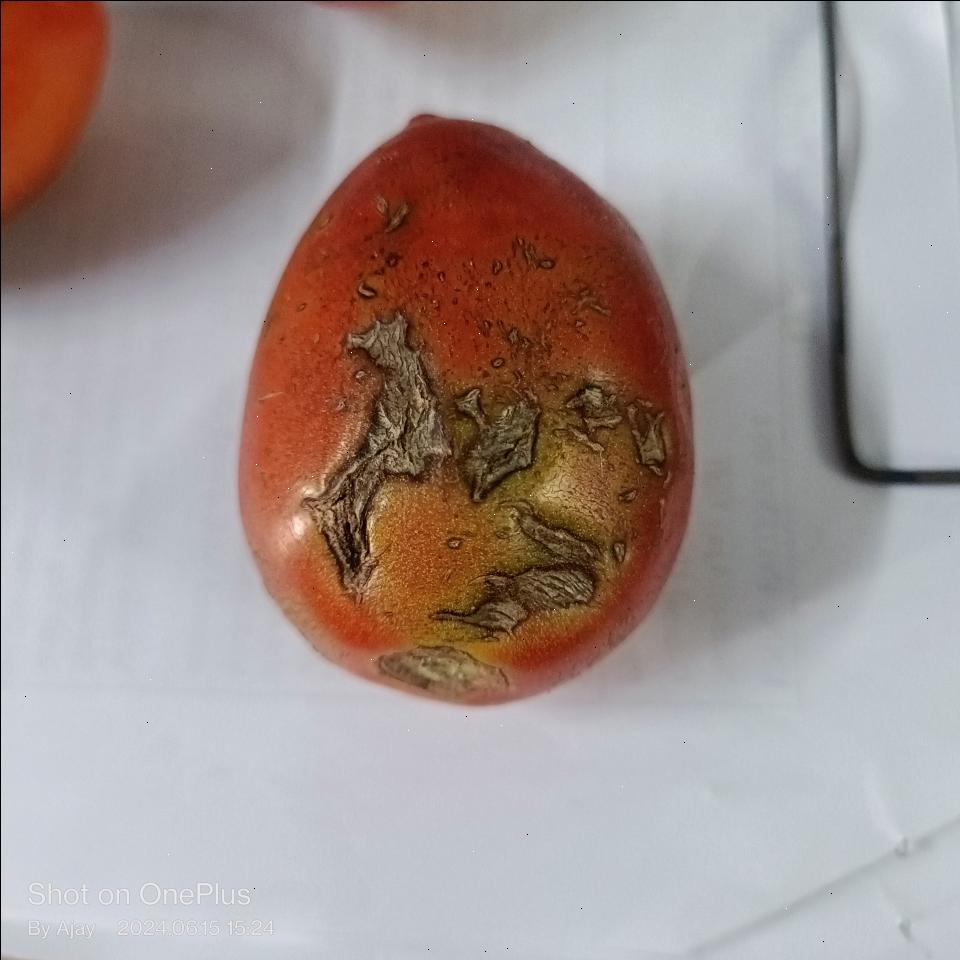Cracking: (300, 300, 563, 602), (414, 468, 620, 642)
